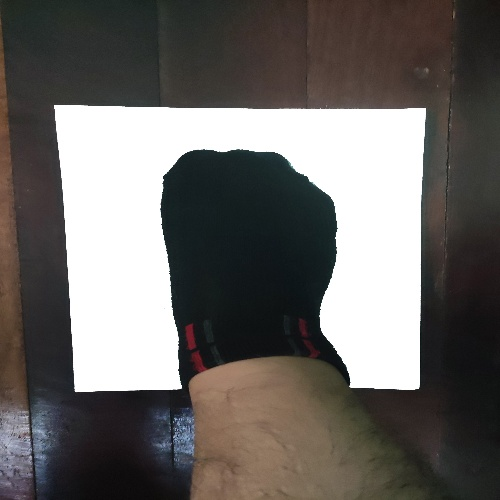Top_Foot: (17, 77, 463, 411)
